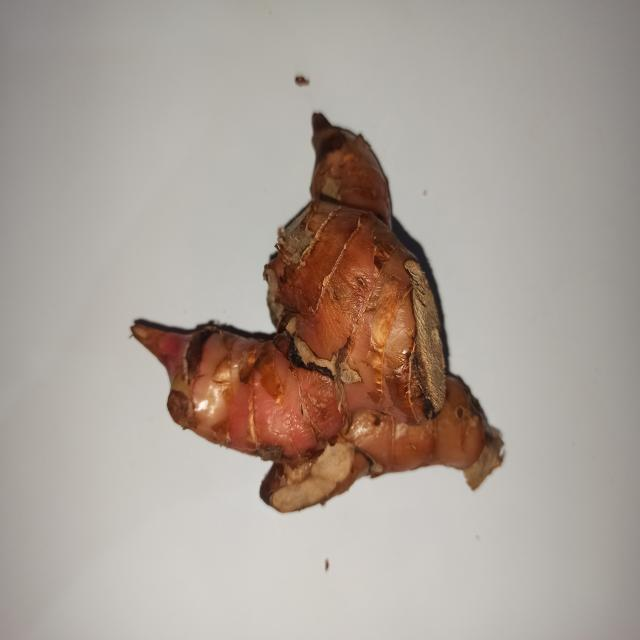ginger: (157, 104, 498, 488)
